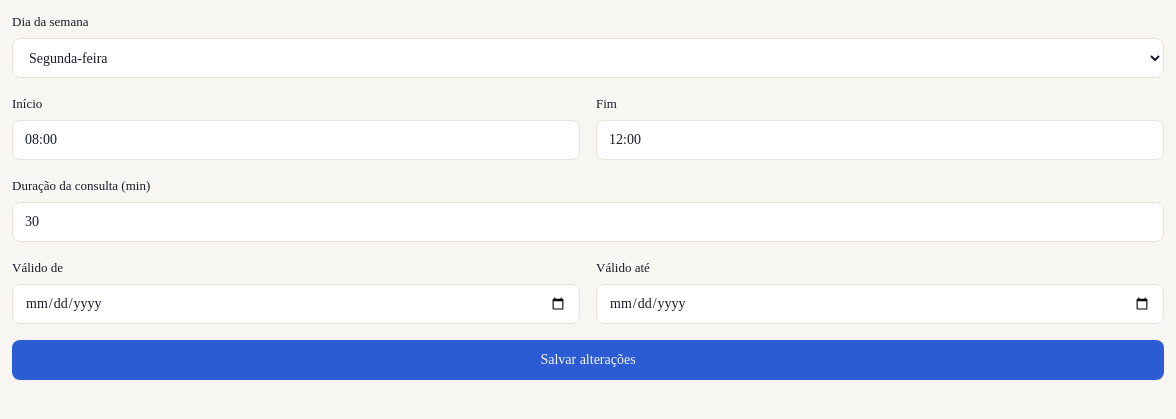
Test: ScheduleForm — edit mode › shows validation error when slot duration is too small in edit mode
This screenshot has width=1176, height=419.
Check: the dropdown with test id "schedule-form-day" shows "Segunda-feira", box [12,38,1164,78]
Replace the text in the number field with test id "schedule-form-slot" with "5". click: coordinates (588, 222)
box: [12,202,1164,242]
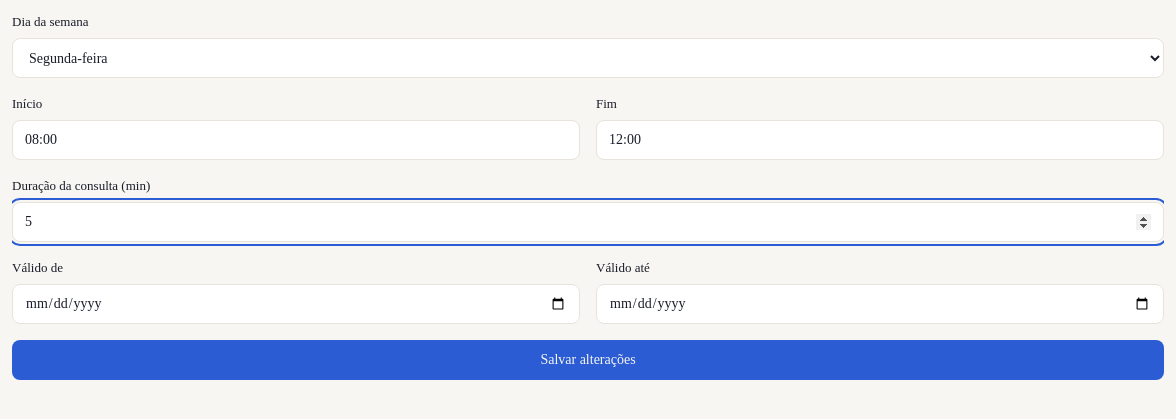
Click the button with test id "schedule-form-submit". click: coordinates (588, 360)
box: [12,340,1164,380]
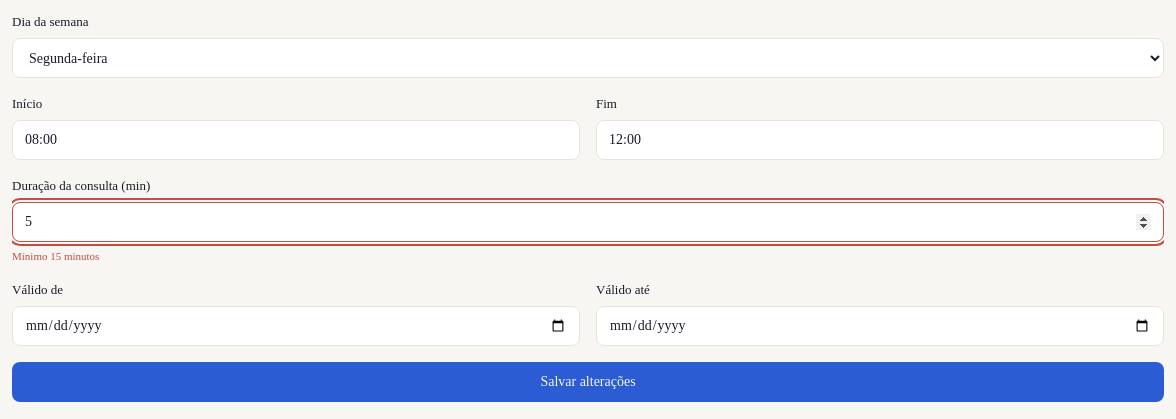
Check: the text "Mínimo 15 minutos" is shown, box [12,250,99,262]
